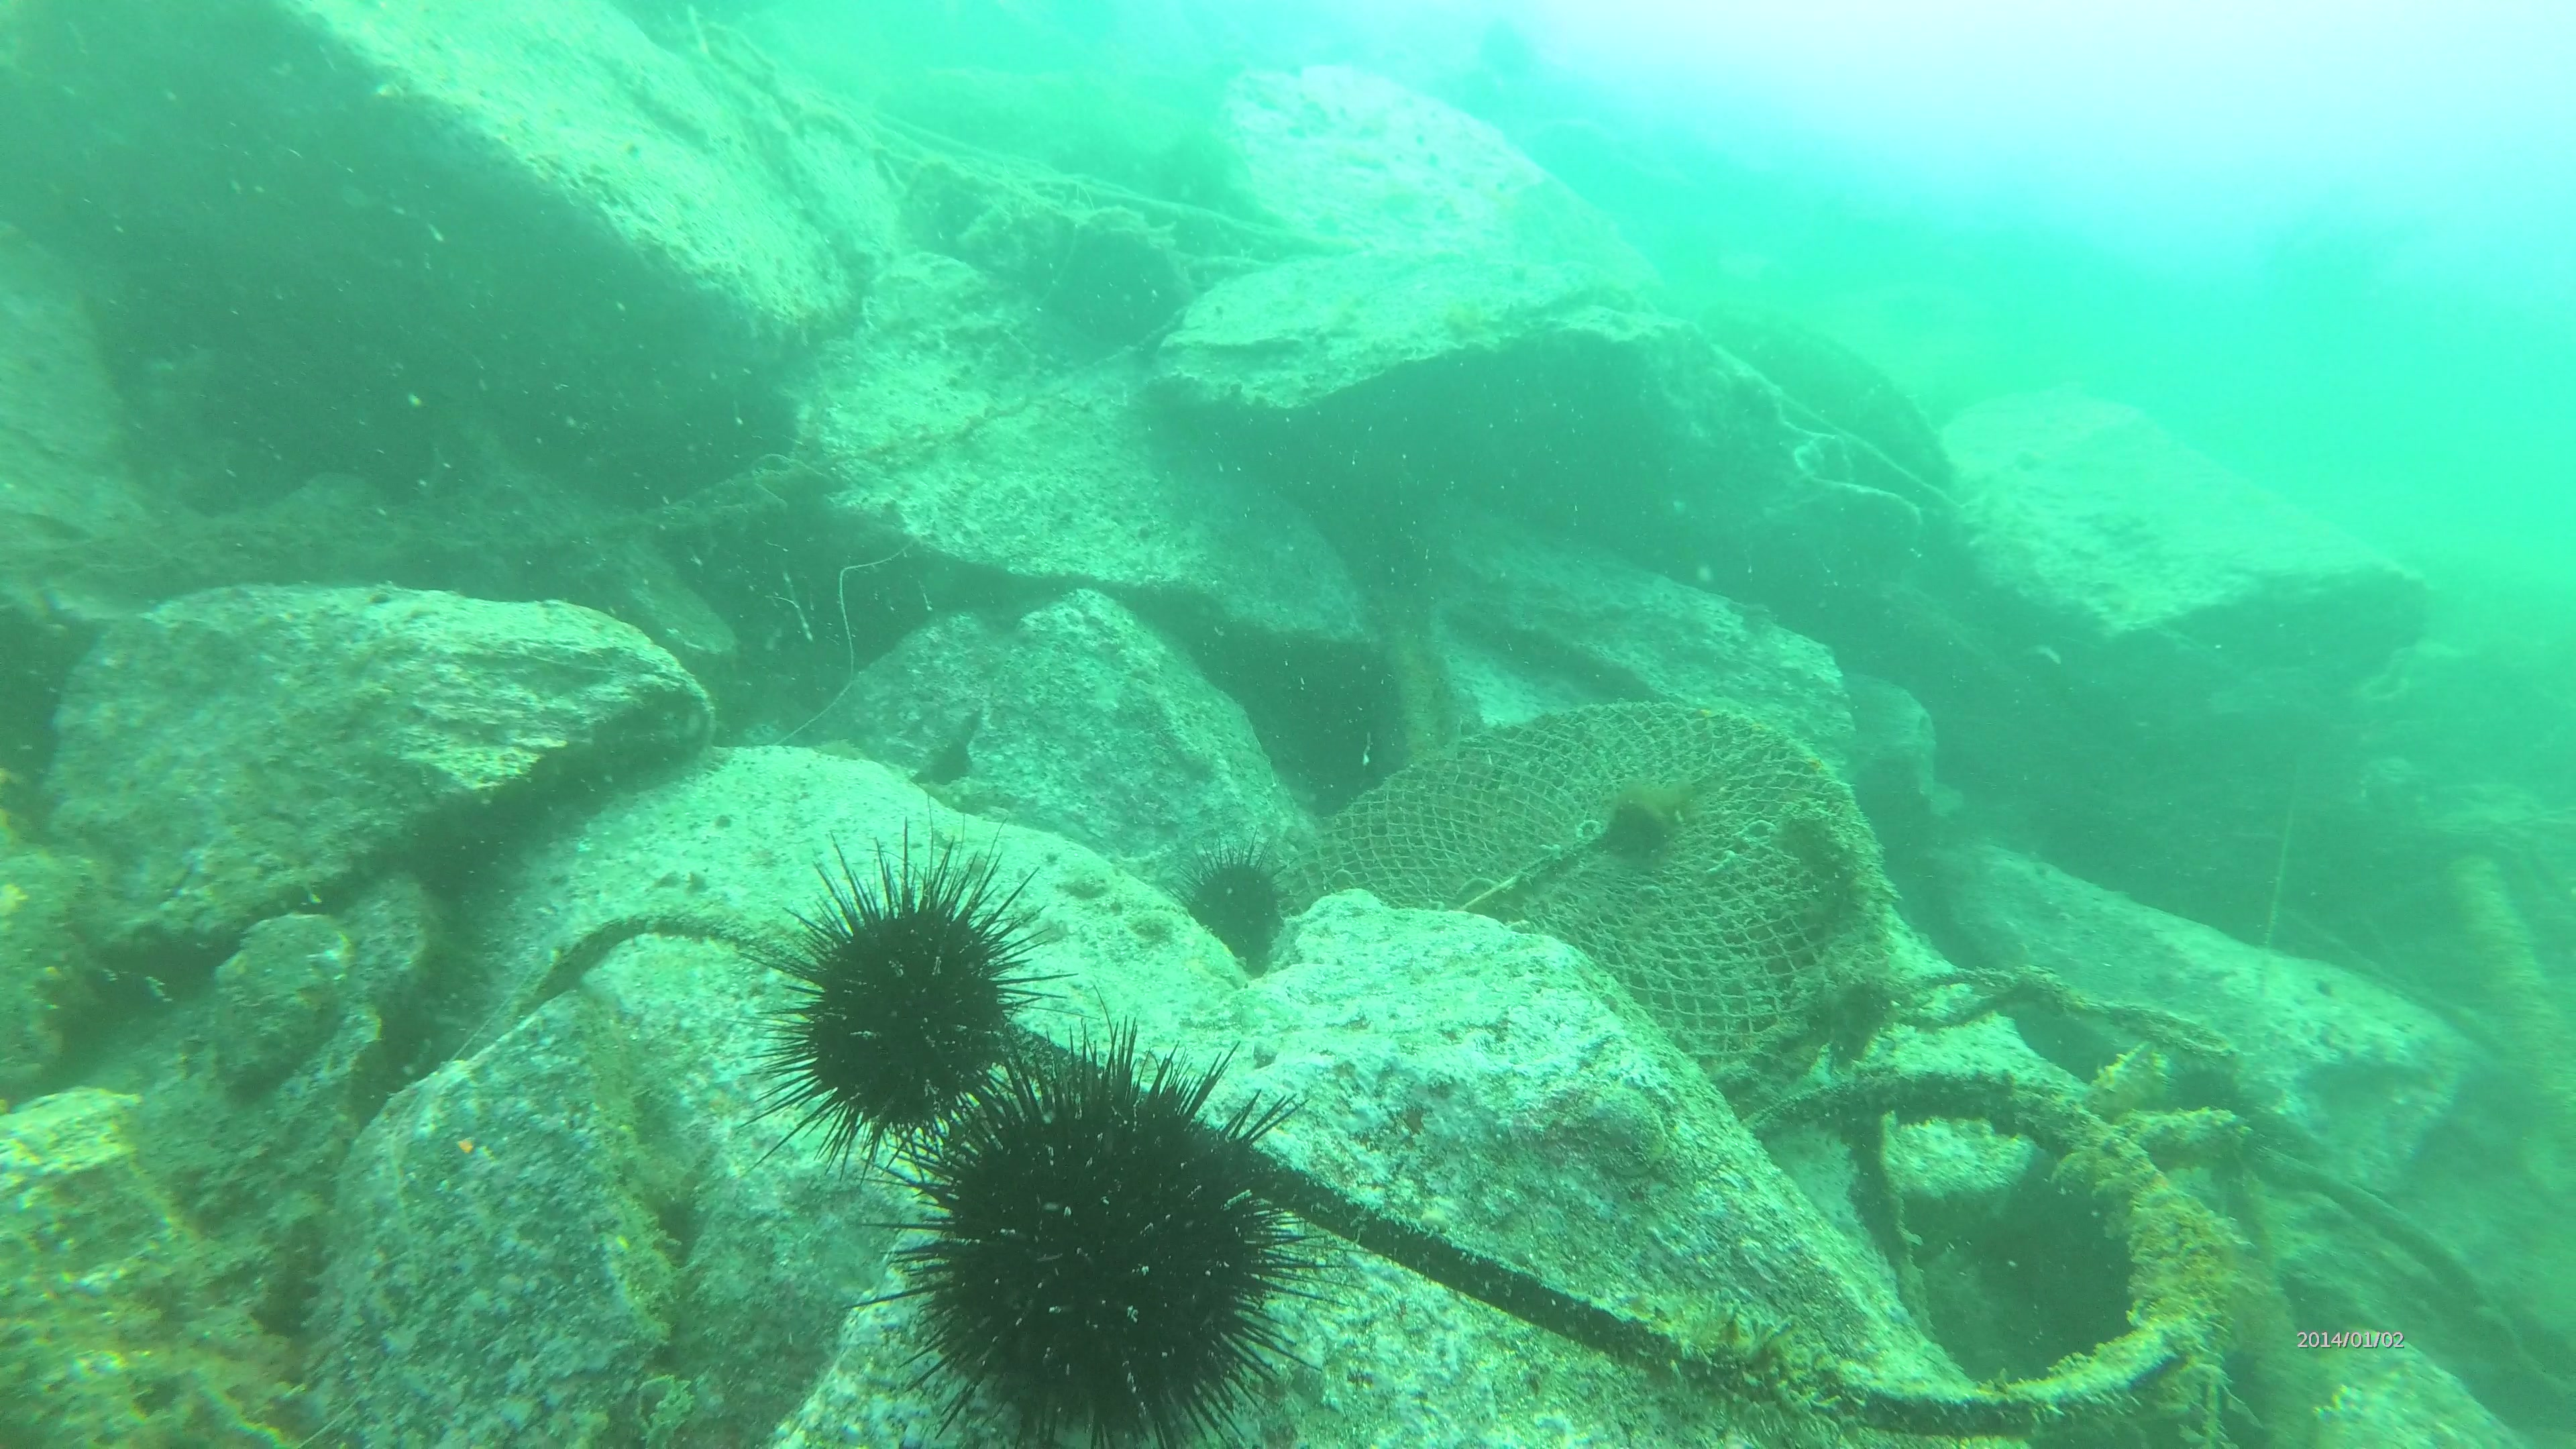echinus: (855, 1024, 1327, 1449), (720, 842, 1074, 1180), (1162, 844, 1306, 985)
